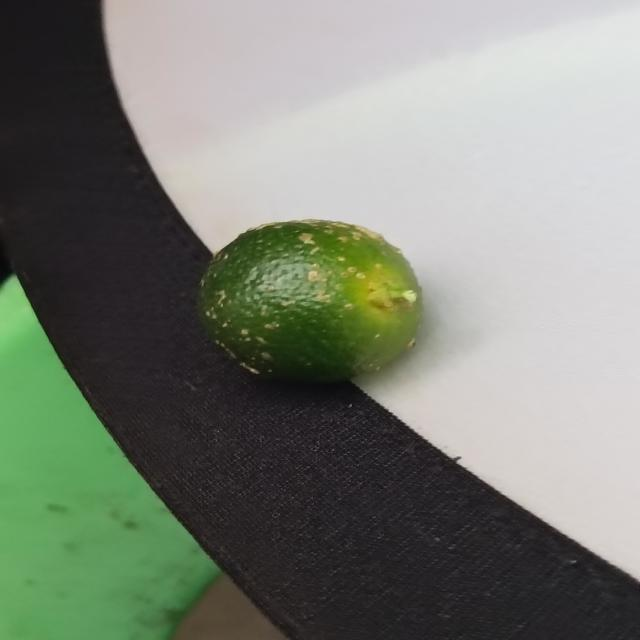scab: (200, 212, 432, 386)
